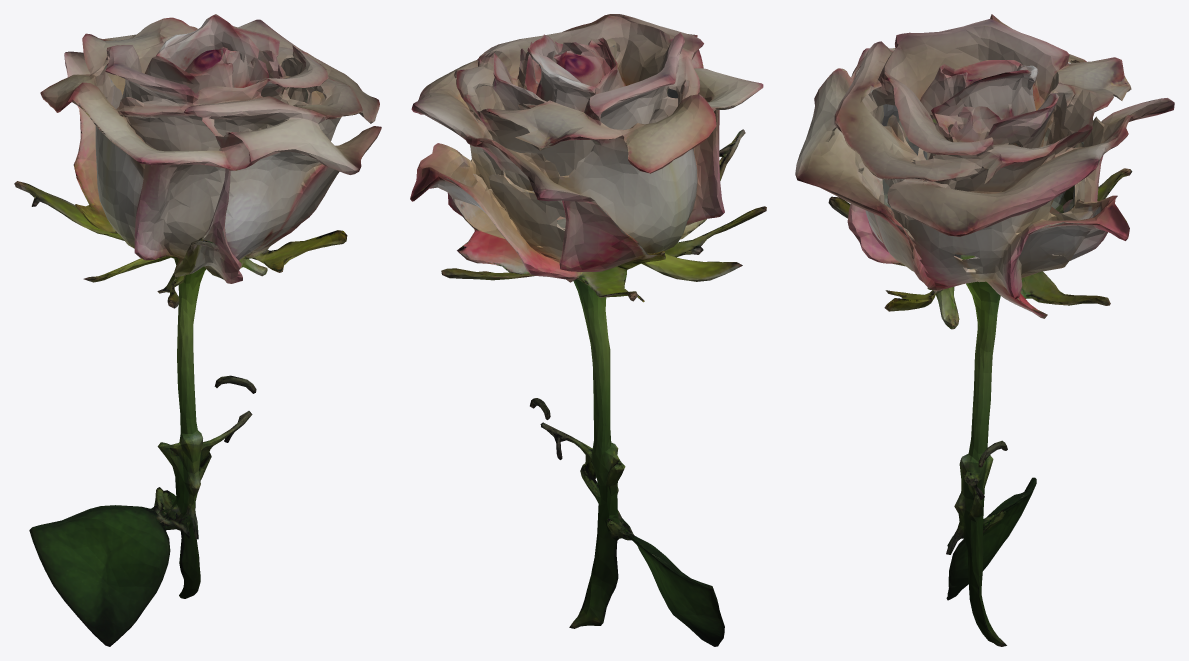
3 views of the same model, side by side, from view 1: azimuth 30°, elevation 25°; view 2: azimuth 150°, elevation 25°; view 3: azimuth 270°, elevation 25° (orthographic). The views are drawn at different scales.
Parts seen in each view (by area): view 1: world; view 2: world; view 3: world.
Boxes of the visible parts, left/top/right/bottom form: world: left=14, top=14, right=381, bottom=646; world: left=410, top=14, right=766, bottom=646; world: left=795, top=14, right=1174, bottom=646.
Size of the model in its own units: 0.5581 by 0.9757 by 0.5552.
1 material, 1 textured.
